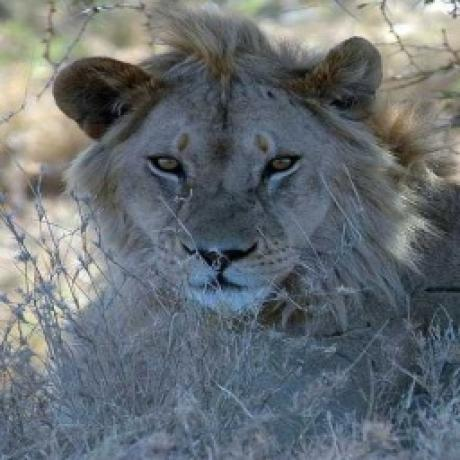Lion: (48, 0, 460, 365)
